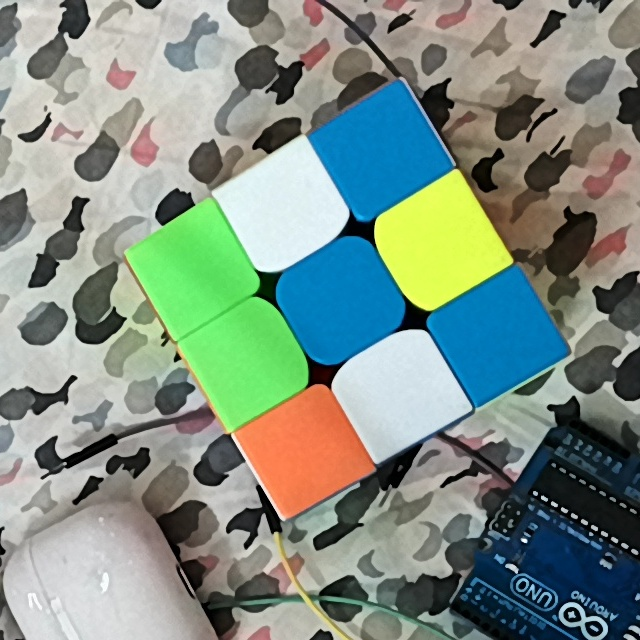tile: (366, 351, 438, 427), (214, 322, 284, 400), (345, 116, 417, 190), (461, 297, 532, 372), (267, 414, 343, 484), (310, 259, 379, 336), (406, 206, 479, 278), (247, 173, 317, 247), (160, 232, 230, 305)
